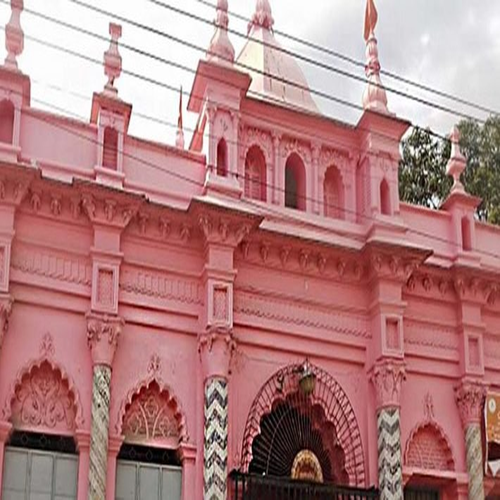Temple: (11, 7, 488, 492)
